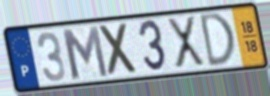3: (136, 17, 168, 75), (36, 30, 67, 83)
D: (199, 11, 238, 71)
M: (59, 24, 111, 82)
X: (97, 21, 141, 79), (165, 14, 208, 70)
